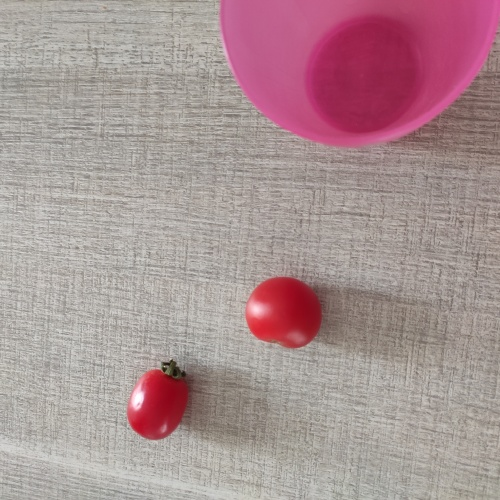pomodoro: (236, 273, 330, 355), (118, 357, 199, 449)
